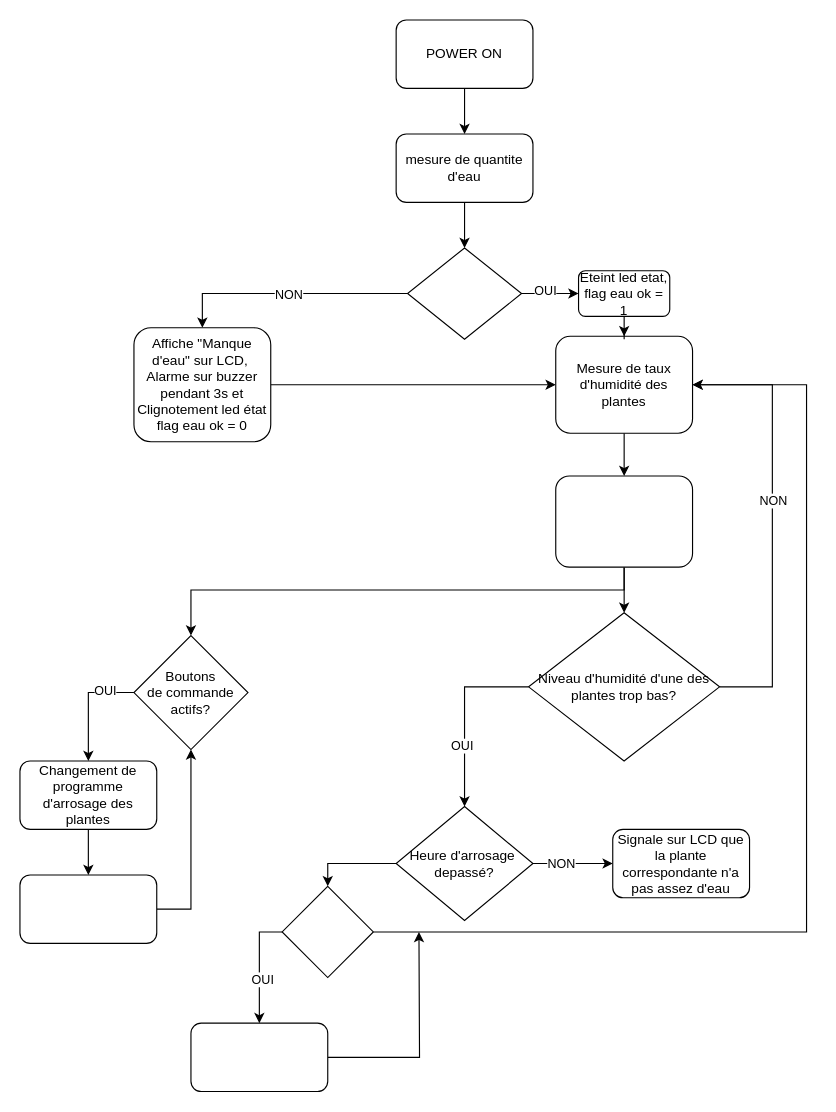
The diagram is 836 pixels wide and 1112 high, and some of its shapes have lost their labels. The box of each missing label's shape, as (x1, y1, x2, y2) in pixels:
Active pompe de plante correspondante pendant 3s: (190, 1022, 328, 1092)
Affichage taux d'humidité sur LCD: (555, 475, 693, 567)
Configure l'heure d'arrosage et sauvegarde en memoire: (19, 874, 157, 943)
flag eau ok = 1?: (281, 885, 373, 978)
Quantité eau ok?: (406, 247, 522, 339)
